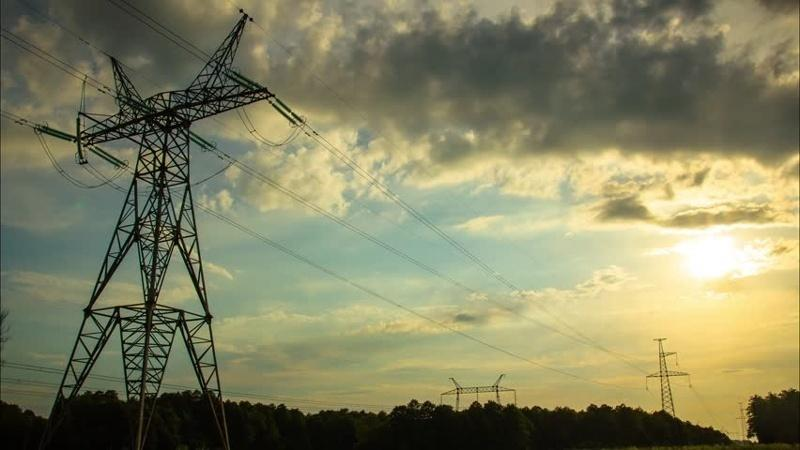power_tower: (35, 8, 306, 450), (646, 336, 690, 422), (436, 374, 520, 407), (735, 396, 752, 444)
